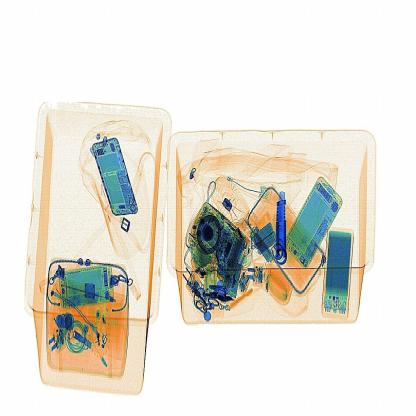pliers: (268, 182, 295, 272)
